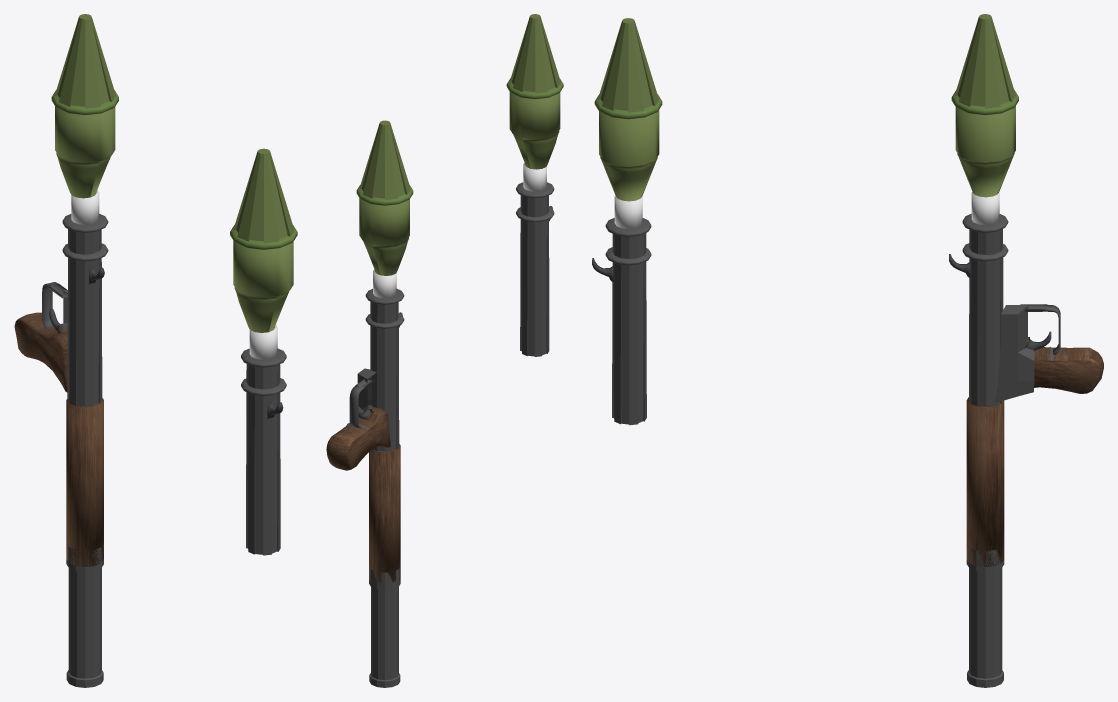
The model's file is rpg2.fbx.
3 renders of one model, left to right at view 1: azimuth 30°, elevation 25°; view 2: azimuth 150°, elevation 25°; view 3: azimuth 270°, elevation 25°, orthographic. The views are drawn at different scales.
Parts seen in each view (by area): view 1: RPG, DauRpg; view 2: RPG, DauRpg; view 3: RPG, DauRpg.
Boxes of the visible parts, <box> form: RPG: <box>14,14,118,687</box>; DauRpg: <box>230,148,297,555</box>; RPG: <box>326,120,413,687</box>; DauRpg: <box>506,14,563,356</box>; RPG: <box>949,14,1103,687</box>; DauRpg: <box>592,18,662,425</box>.
Bounding box in the file's own units: 11.66 × 127 × 88.5.
